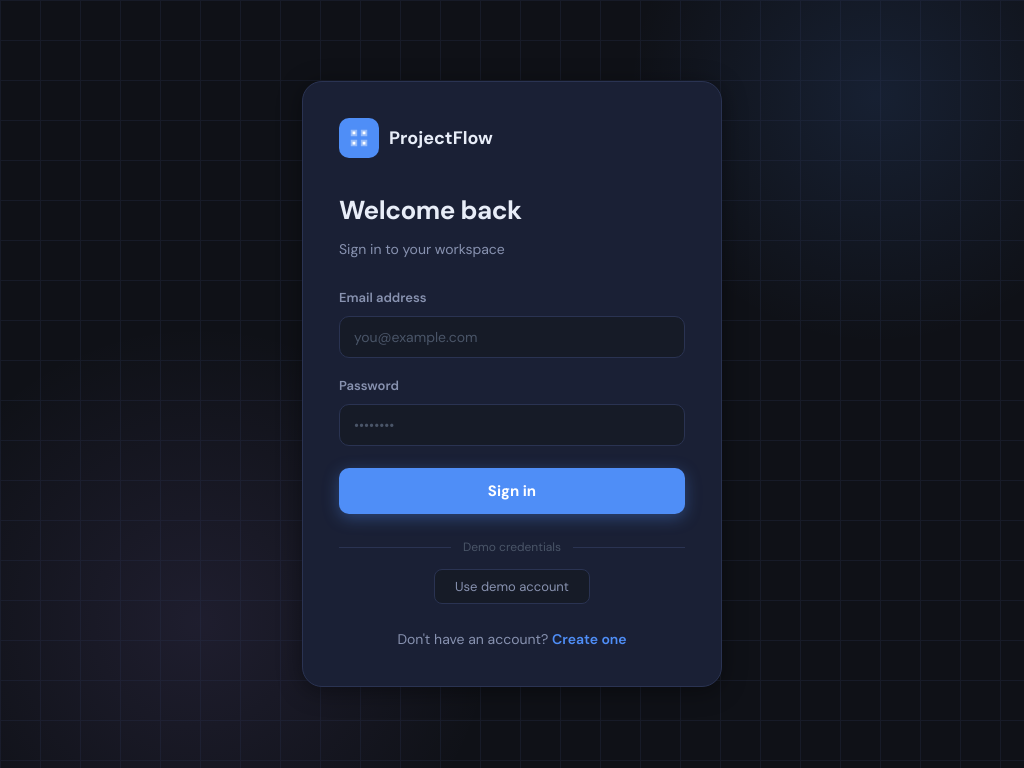
Test: Login Page Tests › populates fields when using demo account button
Step 1. Click the button "Use demo account" → [512, 586], box left=434, top=569, right=590, bottom=604
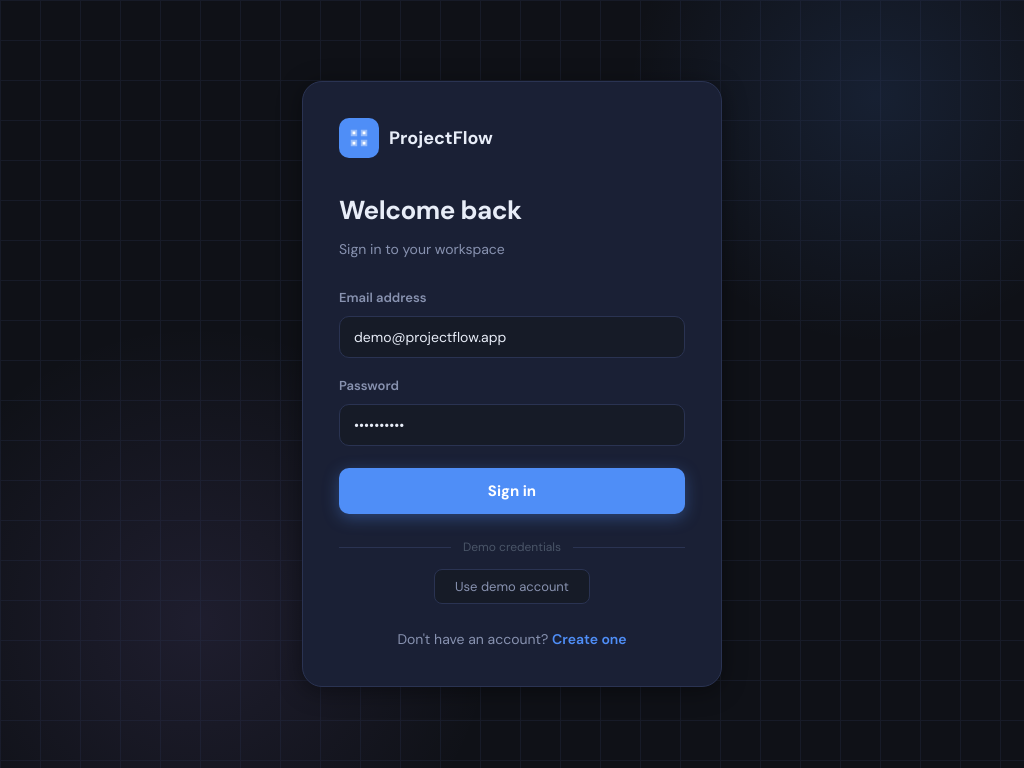
Expected: the field labelled "Email address" holds "demo@projectflow.app", left=339, top=316, right=685, bottom=358
Expected: the password field labelled "Password" holds "demo123456", left=339, top=404, right=685, bottom=446
